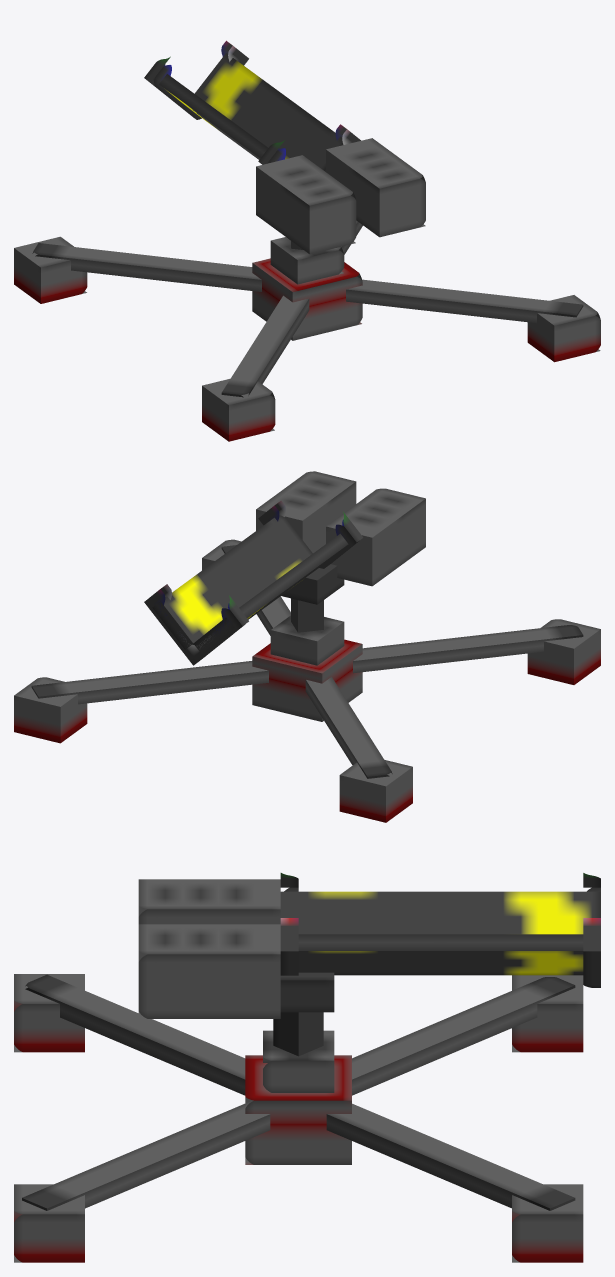
The model's file is cruise_launcher.obj.
The picture shows the model from 3 angles, top to bottom: view 1: azimuth 30°, elevation 25°; view 2: azimuth 150°, elevation 25°; view 3: azimuth 270°, elevation 25°; orthographic projection. The views are drawn at different scales.
Parts seen in each view (by area): view 1: CrossBeamA_SUPPORT_2, COUNTERBALANCE_1_ROT, RAIL_1_ROT, COUNTERBALANCE_2_ROT, MAIN_BODY, CrossBeamB_SUPPORT_1, SUPPORT_5, SUPPORT_6, SUPPORT_4, MAIN_SUPPORT, RAIL_2_ROT, CLAMP_1_ROT (+1 smaller); view 2: CrossBeamB_SUPPORT_1, RAIL_1_ROT, COUNTERBALANCE_1_ROT, MAIN_BODY, COUNTERBALANCE_2_ROT, CrossBeamA_SUPPORT_2, SUPPORT_4, SUPPORT_3, SUPPORT_5, RAIL_2_ROT, MAIN_SUPPORT, CLAMP_1_ROT (+3 smaller); view 3: CrossBeamA_SUPPORT_2, CrossBeamB_SUPPORT_1, COUNTERBALANCE_2_ROT, RAIL_2_ROT, RAIL_1_ROT, MAIN_BODY, COUNTERBALANCE_1_ROT, SUPPORT_3, SUPPORT_6, SUPPORT_5, SUPPORT_4, MAIN_SUPPORT (+4 smaller).
Part boxes in pixels (left/top/right/bottom): CrossBeamA_SUPPORT_2: left=32, top=243, right=583, bottom=323; COUNTERBALANCE_1_ROT: left=256, top=155, right=356, bottom=254; RAIL_1_ROT: left=194, top=53, right=343, bottom=171; COUNTERBALANCE_2_ROT: left=326, top=138, right=425, bottom=237; MAIN_BODY: left=252, top=258, right=362, bottom=340; CrossBeamB_SUPPORT_1: left=221, top=220, right=362, bottom=397; SUPPORT_5: left=202, top=379, right=275, bottom=441; SUPPORT_6: left=527, top=295, right=600, bottom=362; SUPPORT_4: left=14, top=236, right=87, bottom=303; MAIN_SUPPORT: left=270, top=237, right=344, bottom=284; RAIL_2_ROT: left=153, top=74, right=268, bottom=163; CLAMP_1_ROT: left=144, top=40, right=248, bottom=119; CrossBeamB_SUPPORT_1: left=31, top=625, right=583, bottom=704; RAIL_1_ROT: left=152, top=515, right=312, bottom=649; COUNTERBALANCE_1_ROT: left=326, top=488, right=425, bottom=586; MAIN_BODY: left=252, top=639, right=362, bottom=721; COUNTERBALANCE_2_ROT: left=256, top=471, right=356, bottom=553; CrossBeamA_SUPPORT_2: left=221, top=545, right=392, bottom=778; SUPPORT_4: left=339, top=760, right=412, bottom=822; SUPPORT_3: left=14, top=677, right=87, bottom=743; SUPPORT_5: left=527, top=619, right=600, bottom=684; RAIL_2_ROT: left=193, top=533, right=348, bottom=653; MAIN_SUPPORT: left=270, top=615, right=344, bottom=665; CLAMP_1_ROT: left=144, top=584, right=248, bottom=665; CrossBeamA_SUPPORT_2: left=22, top=977, right=575, bottom=1210; CrossBeamB_SUPPORT_1: left=25, top=974, right=575, bottom=1210; COUNTERBALANCE_2_ROT: left=138, top=924, right=280, bottom=1018; RAIL_2_ROT: left=280, top=891, right=600, bottom=934; RAIL_1_ROT: left=298, top=934, right=583, bottom=975; MAIN_BODY: left=245, top=1055, right=351, bottom=1164; COUNTERBALANCE_1_ROT: left=138, top=879, right=280, bottom=924; SUPPORT_3: left=512, top=1184, right=583, bottom=1262; SUPPORT_6: left=14, top=1184, right=84, bottom=1262; SUPPORT_5: left=14, top=974, right=84, bottom=1052; SUPPORT_4: left=512, top=975, right=583, bottom=1052; MAIN_SUPPORT: left=263, top=1030, right=334, bottom=1092.
Size of the model in its own units: 2 by 1.13 by 2.06.
